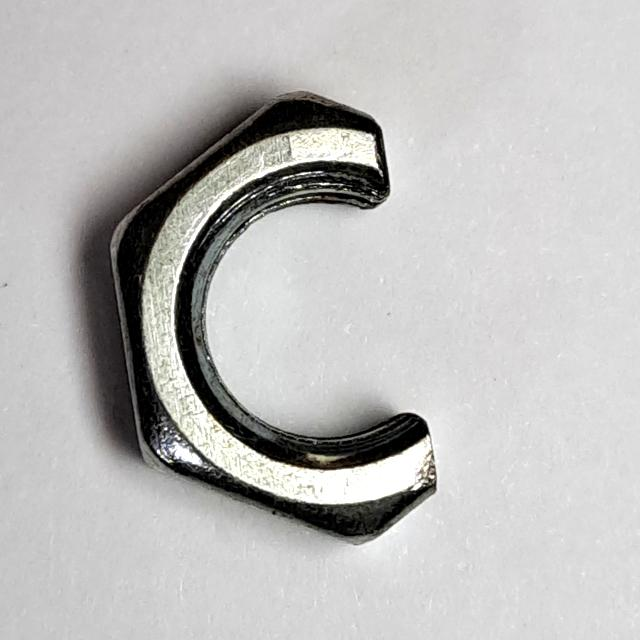Fracture: (98, 68, 463, 565)
